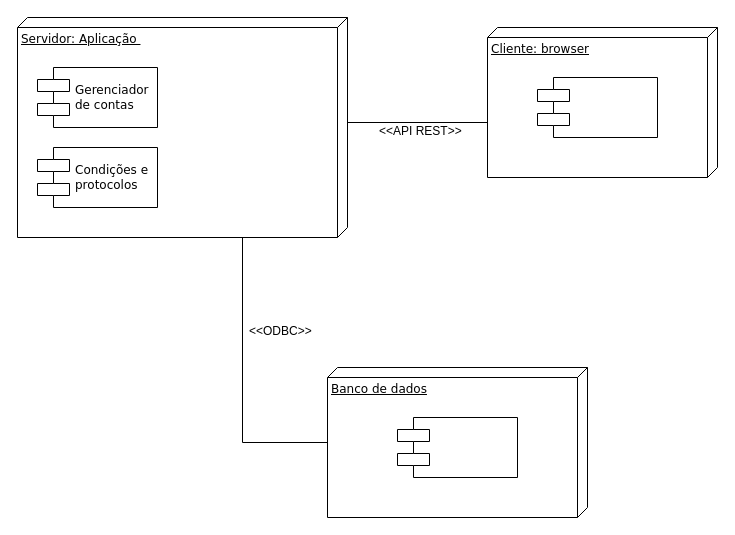
Some shapes in this 735 by 535 pixel diagram are drawn without their labels. The centre of each missing label's shape, as x and y in pixels:
"Interface gráfica" belongs at [597,107].
"SGBD" belongs at [457,447].
